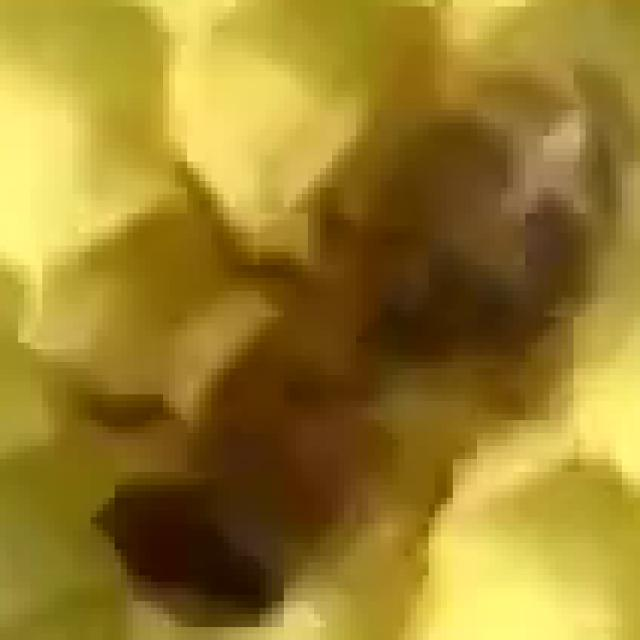honeybee: (84, 109, 598, 576)
